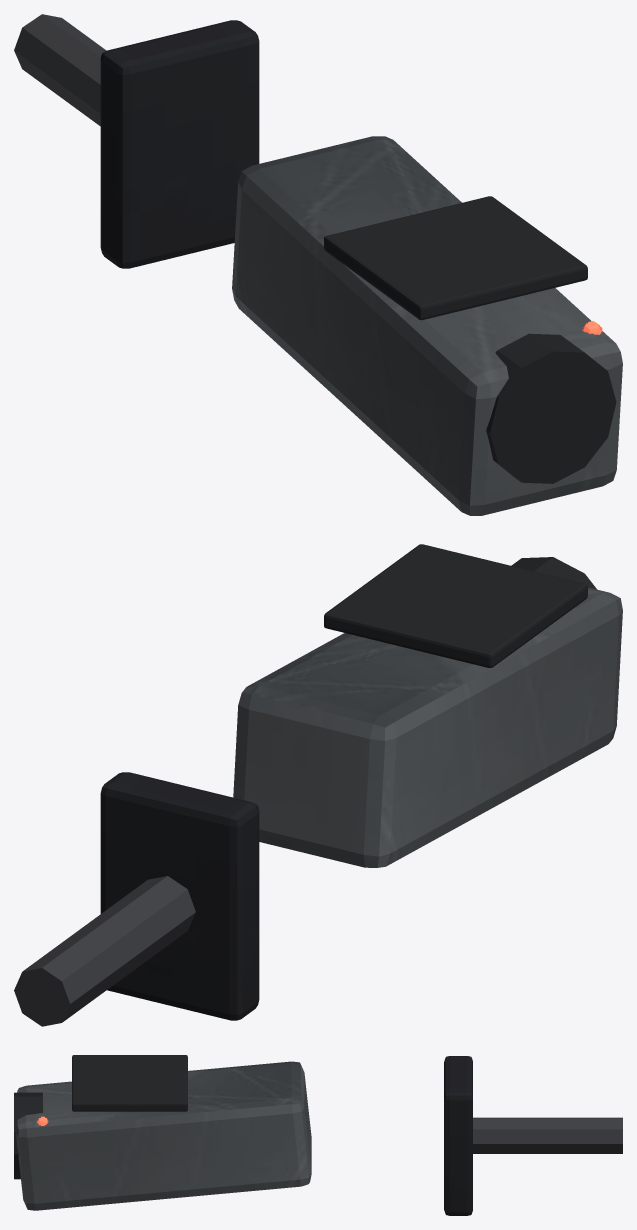
File: cctv_camera.glb
3 views of the same model, one above another, from view 1: azimuth 30°, elevation 25°; view 2: azimuth 150°, elevation 25°; view 3: azimuth 270°, elevation 25° (orthographic). The views are drawn at different scales.
Visible parts, largest first — view 1: body; view 2: body; view 3: body.
Part boxes in pixels (x1,y1,x2,y2): body: [14, 14, 622, 515]; body: [14, 544, 622, 1026]; body: [14, 1055, 622, 1215].
Size of the model in its own units: 0.12 by 0.14 by 0.63.
5 materials, 3 textured.
